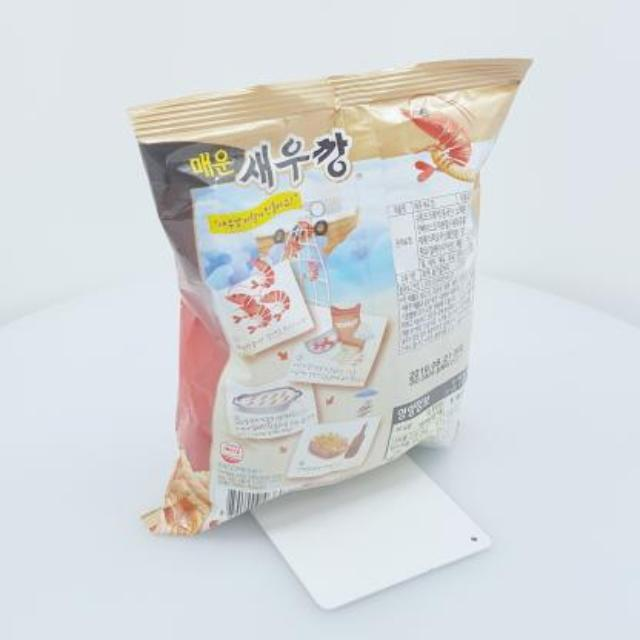snack_bag: (125, 49, 540, 542)
